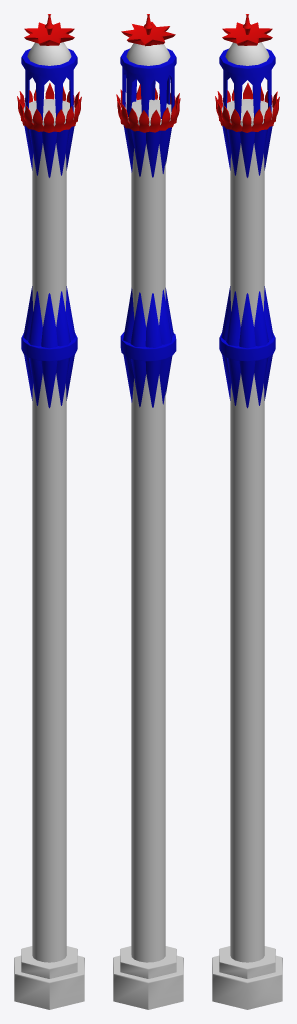
File: Dom_znati_minaret_nizk.fbx
3 renders of one model, left to right at view 1: azimuth 90°, elevation 25°; view 2: azimuth 150°, elevation 25°; view 3: azimuth 270°, elevation 25°, orthographic.
Parts seen in each view (by area): view 1: Dom_znati_minaret_nizk; view 2: Dom_znati_minaret_nizk; view 3: Dom_znati_minaret_nizk.
Part boxes in pixels (<box>): Dom_znati_minaret_nizk: <box>14,14,84,1009</box>; Dom_znati_minaret_nizk: <box>113,14,183,1009</box>; Dom_znati_minaret_nizk: <box>212,14,282,1009</box>.
Bounding box in the file's own units: 7.24 × 96.6 × 6.27.
